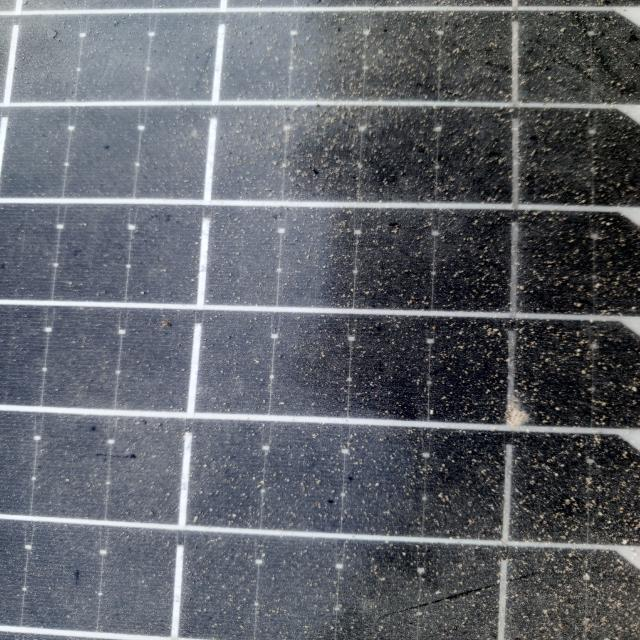Anomaly Solar Panel: (2, 5, 634, 637)
Surface Contaminant: (40, 12, 621, 632)
